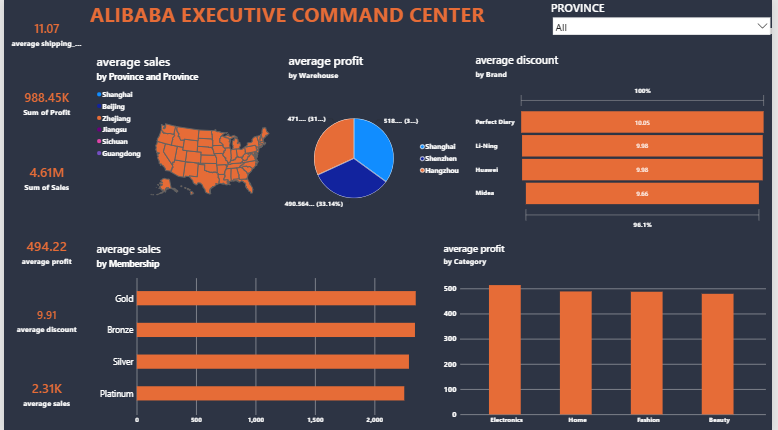

The page's visual inventory and layout, read from the dashboard file:
{"tool":"powerbi","page":{"name":"Page 1","canvas":[1920,1080],"ordinal":0},"visuals":[{"type":"card","fields":{"Values":["Products.average shipping_cost"]},"box":[0,0,214,171.2],"z":0},{"type":"card","fields":{"Values":["Customers.average discount"]},"box":[0,714.9,214,171.2],"z":1000},{"type":"card","fields":{"Values":["Customers.average profit"]},"box":[0,539.4,214,175.5],"z":2000},{"type":"card","fields":{"Values":["Customers.average sales"]},"box":[0,884,214,196.9],"z":3000},{"type":"card","fields":{"Values":["Sum(Orders.Profit)"]},"box":[0,171.2,214,175.5],"z":4000},{"type":"card","fields":{"Values":["Sum(Orders.Sales)"]},"box":[0,346.8,214,192.6],"z":5000},{"type":"textbox","title":"ALIBABA EXECUTIVE COMMAND CENTER","box":[215,0,1705,85],"z":10000},{"type":"shapeMap","fields":{"Category":["Customers.Province"],"Series":["Customers.Province"],"Value":["Customers.average sales"]},"box":[215,117.5,480,472.5],"z":12000},{"type":"pieChart","fields":{"Category":["Orders.Warehouse"],"Y":["Customers.average profit"]},"box":[695,117.5,467.5,472.5],"z":12001},{"type":"funnel","fields":{"Category":["Products.Brand"],"Y":["Customers.average discount"]},"box":[1162.5,117.5,757.5,472.5],"z":12002},{"type":"clusteredBarChart","fields":{"Category":["Customers.Membership"],"Y":["Customers.average sales"]},"box":[215,590,867.5,490],"z":12003},{"type":"clusteredColumnChart","fields":{"Category":["Products.Category"],"Y":["Customers.average profit"]},"box":[1082.5,590,837.5,490],"z":12004},{"type":"slicer","title":"PROVINCE ","fields":{"Values":["Customers.Province"]},"box":[1367.5,0,552.5,90],"z":12005}]}

Visuals, with their boxes in screenshot pixels (x1, y1, x2, y2), scaled from the page's 1920x1080 canvas onto the 778x430 screenshot:
card - Products.average shipping_cost: crop(0, 0, 87, 68)
card - Customers.average discount: crop(0, 285, 87, 353)
card - Customers.average profit: crop(0, 215, 87, 285)
card - Customers.average sales: crop(0, 352, 87, 429)
card - Sum(Orders.Profit): crop(0, 68, 87, 138)
card - Sum(Orders.Sales): crop(0, 138, 87, 215)
"ALIBABA EXECUTIVE COMMAND CENTER" textbox: crop(87, 0, 777, 34)
shapeMap - Customers.Province x Customers.Province: crop(87, 47, 282, 235)
pieChart - Orders.Warehouse x Customers.average profit: crop(282, 47, 471, 235)
funnel - Products.Brand x Customers.average discount: crop(471, 47, 777, 235)
clusteredBarChart - Customers.Membership x Customers.average sales: crop(87, 235, 439, 429)
clusteredColumnChart - Products.Category x Customers.average profit: crop(439, 235, 777, 429)
"PROVINCE " slicer: crop(554, 0, 777, 36)
